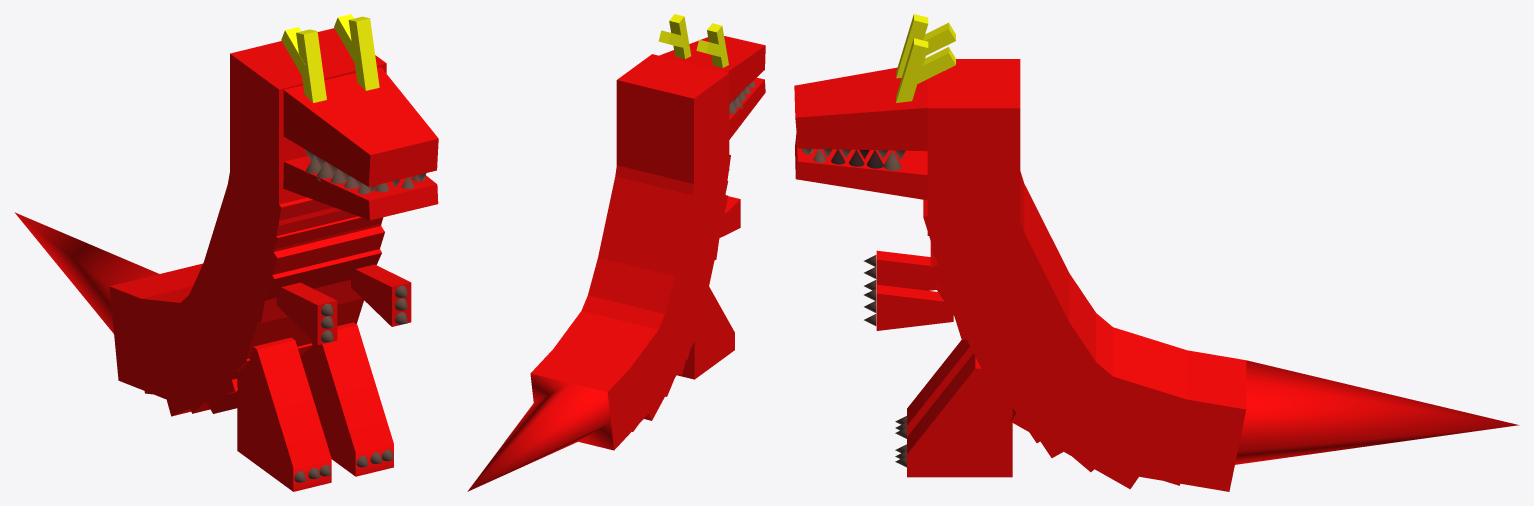
The model's file is doragon.obj.
3 views of the same model, side by side, from view 1: azimuth 30°, elevation 25°; view 2: azimuth 150°, elevation 25°; view 3: azimuth 270°, elevation 25° (orthographic). The views are drawn at different scales.
Visible parts, largest first — view 1: group5 group10 group4 pCube4, group10 pCube21, group10 pCube10, group10 group9 pCube23, group10 group8 pCube23, group10 pCube11, group10 pCube14, group10 pCube13, group10 pCube18, group3 group5 group10 pCube9, group10 pCube12, group10 pCube20 (+9 smaller); view 2: group10 pCube10, group10 pCube21, group10 pCube12, group10 pCube20, group10 pCube18, group10 pCube11, group10 pCube15, group10 group9 pCube23, group5 group10 group4 pCube4, group10 pCube14, group10 pCube13, group10 pCube16 (+5 smaller); view 3: group10 pCube21, group10 pCube10, group10 pCube20, group10 pCube11, group10 pCube18, group5 group10 group4 pCube4, group10 group8 pCube23, group10 pCube12, group3 group5 group10 pCube9, group10 pCube19, group10 pCube15, group10 group6 pCube22 (+5 smaller).
Boxes of the visible parts, x1=… form: group5 group10 group4 pCube4: x1=283, y1=67, x2=438, y2=186; group10 pCube21: x1=14, y1=212, x2=202, y2=408; group10 pCube10: x1=230, y1=28, x2=386, y2=225; group10 group9 pCube23: x1=237, y1=337, x2=331, y2=491; group10 group8 pCube23: x1=300, y1=322, x2=393, y2=476; group10 pCube11: x1=221, y1=173, x2=381, y2=323; group10 pCube14: x1=193, y1=202, x2=381, y2=350; group10 pCube13: x1=216, y1=192, x2=384, y2=359; group10 pCube18: x1=159, y1=295, x2=312, y2=413; group3 group5 group10 pCube9: x1=283, y1=156, x2=438, y2=220; group10 pCube12: x1=202, y1=173, x2=383, y2=338; group10 pCube20: x1=131, y1=286, x2=204, y2=397; group10 pCube10: x1=616, y1=54, x2=729, y2=187; group10 pCube21: x1=467, y1=337, x2=666, y2=491; group10 pCube12: x1=598, y1=176, x2=728, y2=281; group10 pCube20: x1=553, y1=311, x2=683, y2=431; group10 pCube18: x1=581, y1=288, x2=706, y2=396; group10 pCube11: x1=615, y1=154, x2=730, y2=266; group10 pCube15: x1=588, y1=247, x2=683, y2=327; group10 group9 pCube23: x1=677, y1=286, x2=734, y2=379; group5 group10 group4 pCube4: x1=659, y1=36, x2=765, y2=102; group10 pCube14: x1=668, y1=212, x2=725, y2=316; group10 pCube13: x1=675, y1=192, x2=727, y2=300; group10 pCube16: x1=668, y1=254, x2=715, y2=359; group10 pCube21: x1=1097, y1=350, x2=1519, y2=491; group10 pCube10: x1=927, y1=59, x2=1020, y2=235; group10 pCube20: x1=1068, y1=327, x2=1209, y2=485; group10 pCube11: x1=923, y1=171, x2=1050, y2=340; group10 pCube18: x1=988, y1=313, x2=1120, y2=471; group5 group10 group4 pCube4: x1=794, y1=67, x2=927, y2=151; group10 group8 pCube23: x1=907, y1=353, x2=1012, y2=477; group10 pCube12: x1=930, y1=184, x2=1069, y2=364; group3 group5 group10 pCube9: x1=795, y1=132, x2=927, y2=200; group10 pCube19: x1=1010, y1=408, x2=1178, y2=489; group10 pCube15: x1=984, y1=262, x2=1101, y2=373; group10 group6 pCube22: x1=876, y1=284, x2=953, y2=330.
Bounding box in the file's own units: 1.6 × 6.59 × 9.92.
